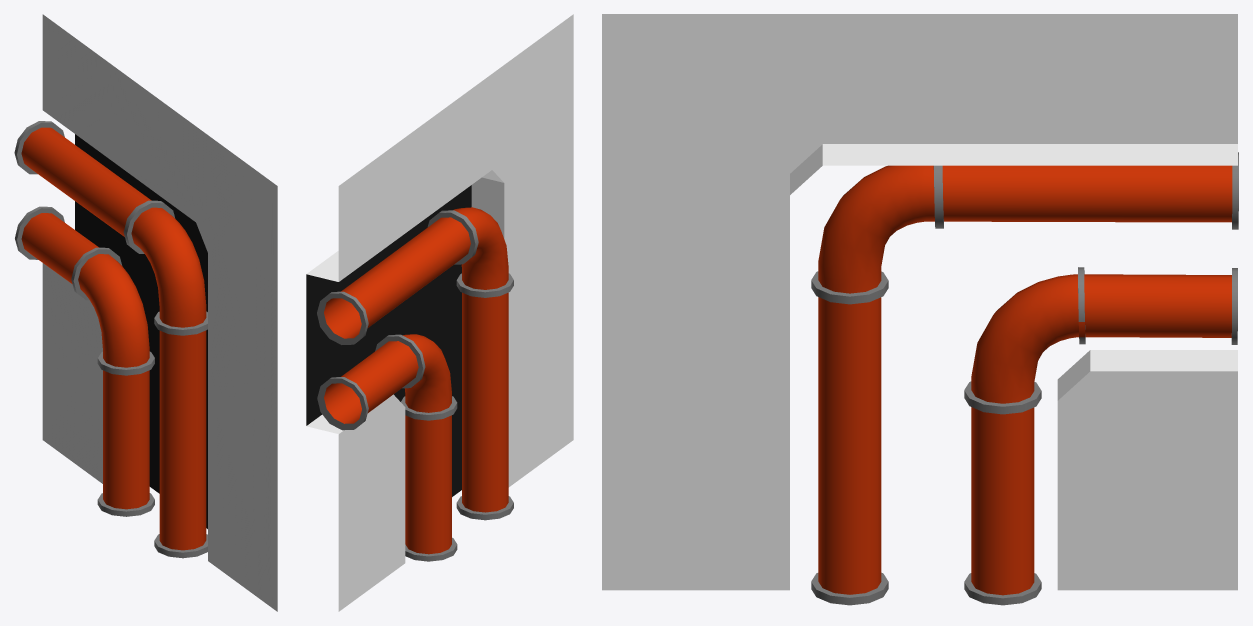
Rendered from S_assete_basement_wall_midel_4.fbx.
3 views of the same model, side by side, from view 1: azimuth 30°, elevation 25°; view 2: azimuth 150°, elevation 25°; view 3: azimuth 270°, elevation 25° (orthographic). The views are drawn at different scales.
Parts seen in each view (by area): view 1: Plane003; view 2: Plane003; view 3: Plane003.
Boxes of the visible parts, x1,y1,x2,y2 form: Plane003: [14, 14, 277, 611]; Plane003: [306, 14, 573, 611]; Plane003: [602, 14, 1238, 605].
Size of the model in its own units: 29.69 by 200 by 200.
